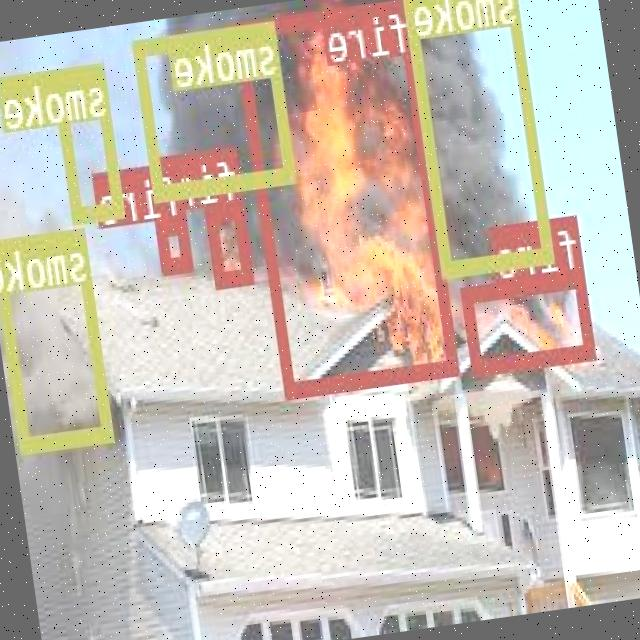fire: (235, 0, 460, 397), (463, 269, 597, 374), (208, 200, 256, 284), (157, 216, 196, 270)
smoke: (404, 0, 554, 272), (135, 18, 298, 197), (0, 224, 115, 449), (54, 60, 126, 219)
